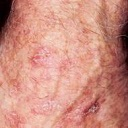Actinic: (73, 96, 107, 128), (24, 43, 54, 67)
